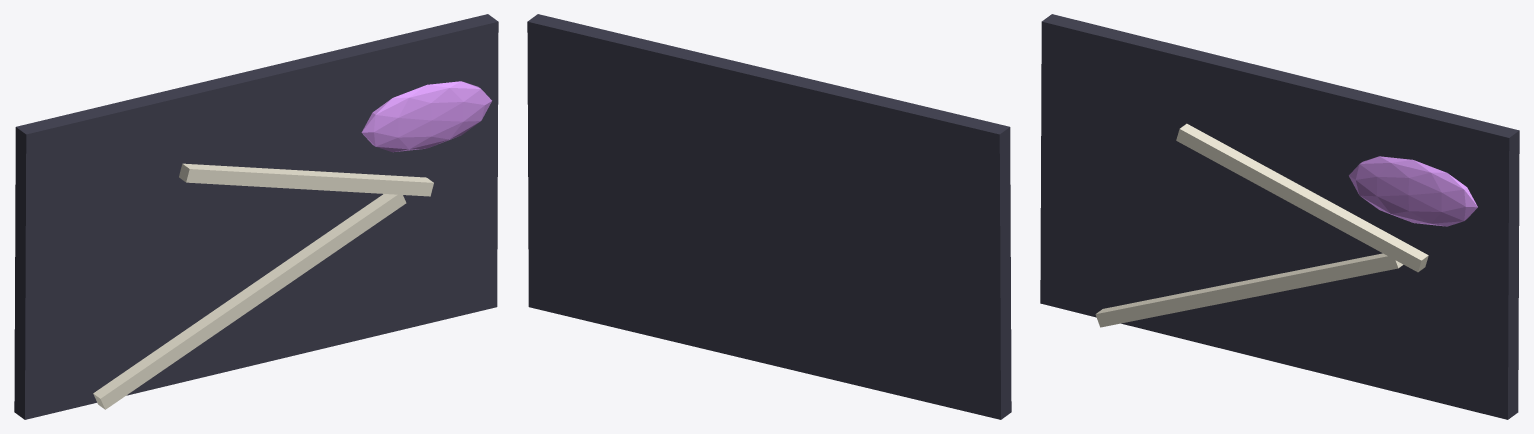
File: 01_weathering_wear_overlay_1.glb
3 views of the same model, side by side, from view 1: azimuth 30°, elevation 25°; view 2: azimuth 150°, elevation 25°; view 3: azimuth 330°, elevation 25° (orthographic).
Parts seen in each view (by area): view 1: wear_plate, scratch_a, rust_or_moss_spot, scratch_b; view 2: wear_plate; view 3: wear_plate, rust_or_moss_spot, scratch_b, scratch_a.
Boxes of the visible parts, box(x1,y1,x2,y2) form: wear_plate: box(14, 14, 498, 419); scratch_a: box(93, 194, 406, 409); rust_or_moss_spot: box(361, 81, 491, 152); scratch_b: box(179, 163, 433, 196); wear_plate: box(527, 14, 1011, 419); wear_plate: box(1040, 14, 1519, 419); rust_or_moss_spot: box(1349, 156, 1477, 226); scratch_b: box(1176, 123, 1428, 272); scratch_a: box(1095, 253, 1403, 327).
Size of the model in its own units: 1.3 by 0.7563 by 0.134.
